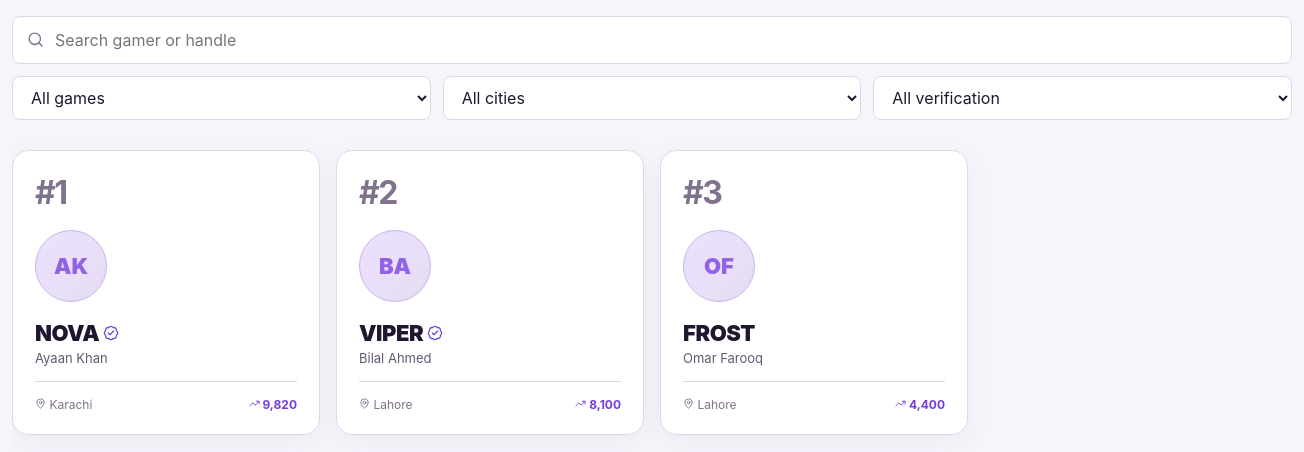
Scenario: GamerDirectory › searches by player name as well as handle
In the field named "Search gamers": (652, 40) [12,16,1292,64], type "Ayaan"
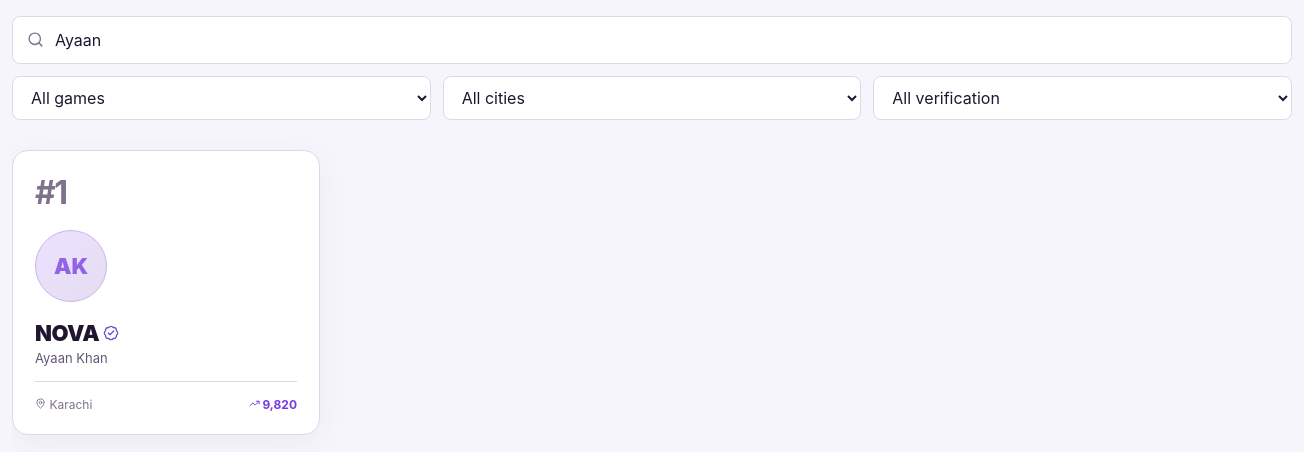
Expected: the link "#1 AK NOVA Ayaan Khan Karachi 9,820" is shown, [12,150,320,435]
Now the link "FROST" is gone
